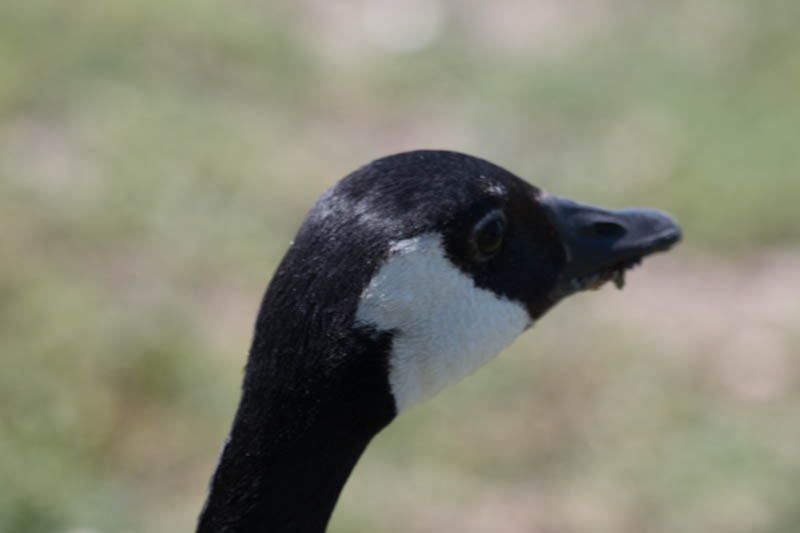goose-head: (257, 147, 683, 424)
